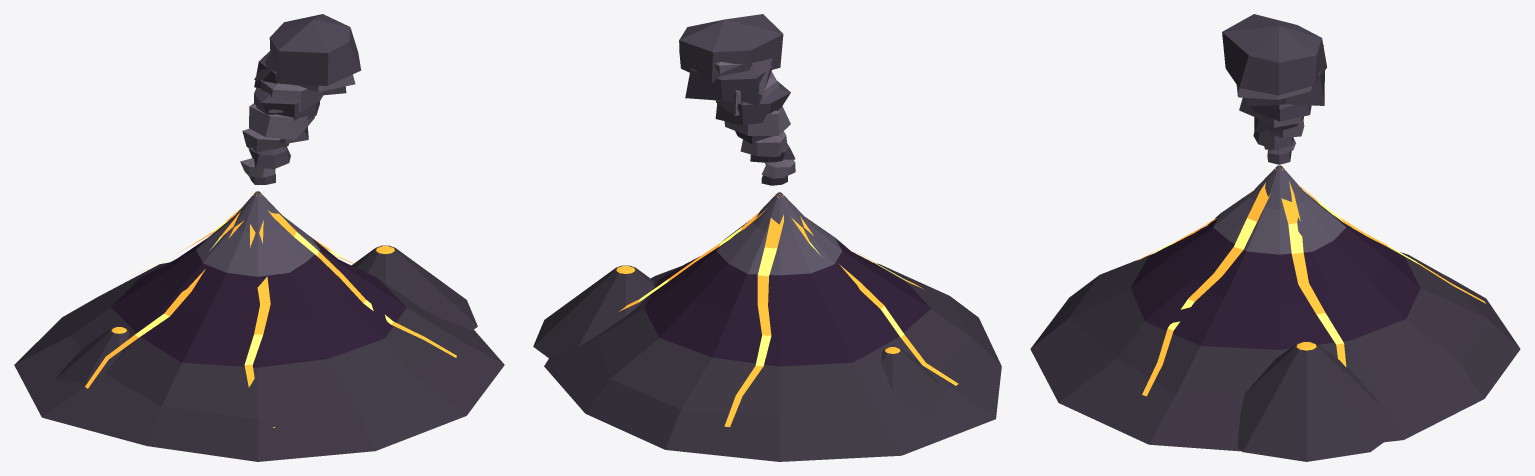
The model's file is W4_Far_Volcano.fbx.
The picture shows the model from 3 angles, left to right: view 1: azimuth 30°, elevation 25°; view 2: azimuth 150°, elevation 25°; view 3: azimuth 270°, elevation 25°; orthographic projection. The views are drawn at different scales.
Visible parts, largest first — view 1: W4_Far_Volcano; view 2: W4_Far_Volcano; view 3: W4_Far_Volcano.
Part boxes in pixels (x1,y1,x2,y2): W4_Far_Volcano: (14, 14, 504, 461); W4_Far_Volcano: (533, 14, 1001, 461); W4_Far_Volcano: (1030, 14, 1520, 461).
Size of the model in its own units: 592 by 429 by 543.
